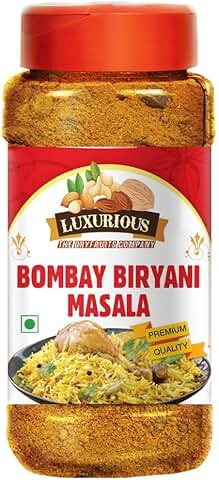Biryani: (5, 7, 217, 480)
